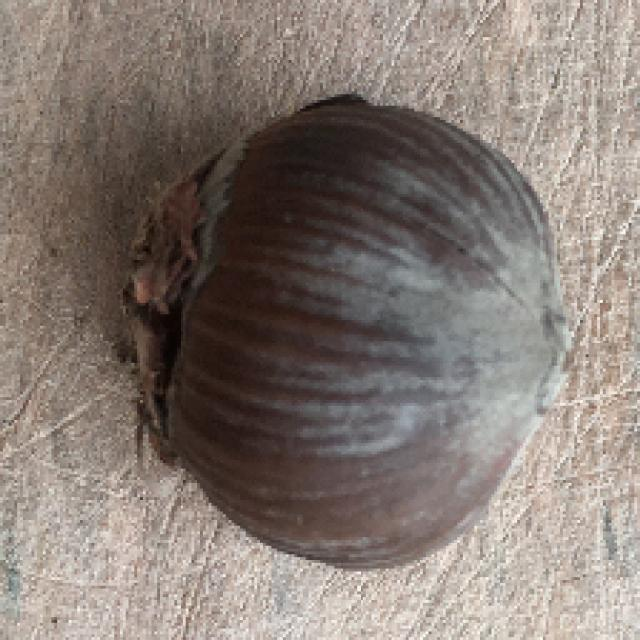DamagedHazelnut: (124, 100, 577, 569)
